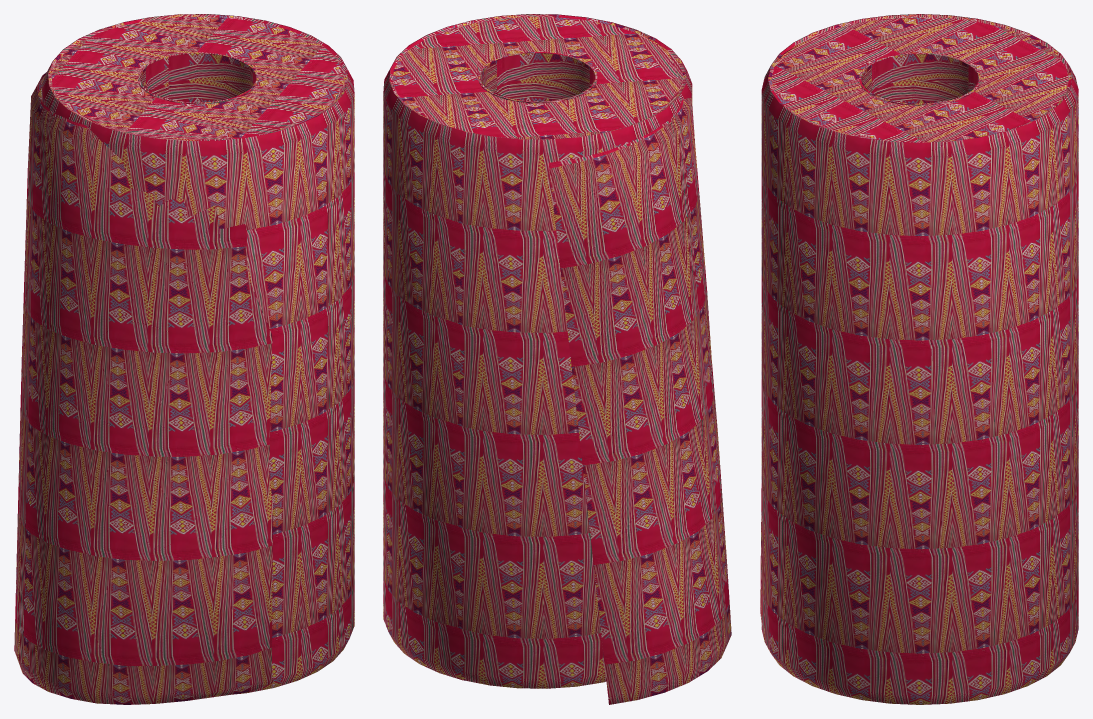
Rendered from kain salele2.fbx.
3 views of the same model, side by side, from view 1: azimuth 30°, elevation 25°; view 2: azimuth 150°, elevation 25°; view 3: azimuth 270°, elevation 25° (orthographic). The views are drawn at different scales.
Parts seen in each view (by area): view 1: SM_PaperTowelRoll_PaperTowelRoll_0; view 2: SM_PaperTowelRoll_PaperTowelRoll_0; view 3: SM_PaperTowelRoll_PaperTowelRoll_0.
Part boxes in pixels (box(x1,y1,x2,y2)): SM_PaperTowelRoll_PaperTowelRoll_0: box(14, 14, 354, 704); SM_PaperTowelRoll_PaperTowelRoll_0: box(383, 14, 731, 704); SM_PaperTowelRoll_PaperTowelRoll_0: box(760, 14, 1078, 704).
Bounding box in the file's own units: 122 × 217 × 108.
